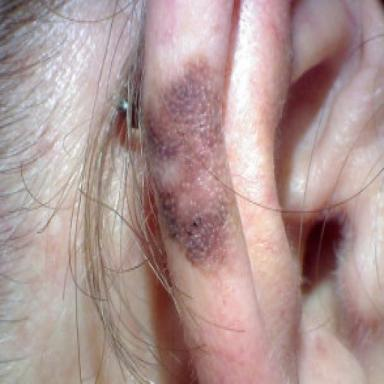Melanoma: (143, 54, 239, 273)
